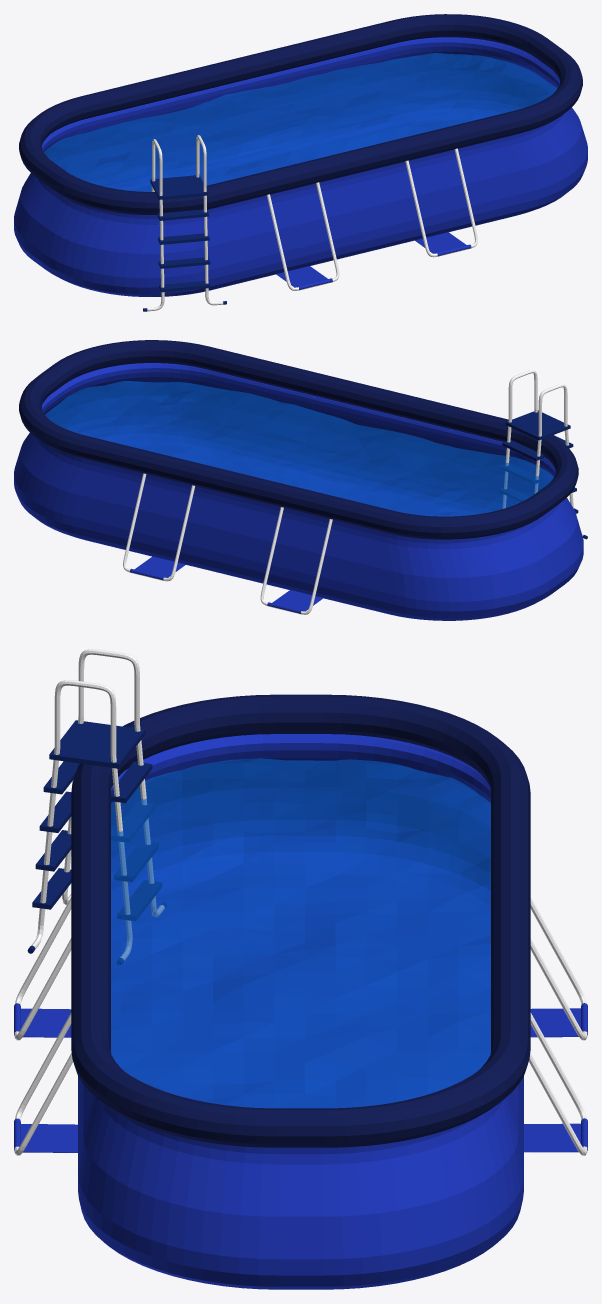
Rendered from rectangle-swimming-pool.obj.
The picture shows the model from 3 angles, top to bottom: view 1: azimuth 30°, elevation 25°; view 2: azimuth 150°, elevation 25°; view 3: azimuth 270°, elevation 25°; orthographic projection. The views are drawn at different scales.
Visible parts, largest first — view 1: Circle, water_Plane.001, Torus.002, BezierCurve.004_Mesh.004, Cylinder, BezierCurve.001_Mesh.001, BezierCurve_Mesh; view 2: Circle, water_Plane.001, Torus.002, BezierCurve.004_Mesh.004, Cylinder, BezierCurve.002_Mesh.002, BezierCurve.003_Mesh.003; view 3: Circle, water_Plane.001, Torus.002, BezierCurve.004_Mesh.004, Cylinder, BezierCurve_Mesh, BezierCurve.002_Mesh.002, BezierCurve.003_Mesh.003, BezierCurve.001_Mesh.001.
Part boxes in pixels (x1,y1,x2,y2): Circle: [14, 37, 587, 296]; water_Plane.001: [44, 53, 556, 222]; Torus.002: [19, 14, 582, 214]; BezierCurve.004_Mesh.004: [143, 135, 226, 311]; Cylinder: [276, 232, 471, 289]; BezierCurve.001_Mesh.001: [266, 182, 339, 290]; BezierCurve_Mesh: [405, 148, 477, 257]; Circle: [14, 363, 583, 620]; water_Plane.001: [45, 381, 553, 516]; Torus.002: [19, 340, 578, 539]; BezierCurve.004_Mesh.004: [499, 370, 587, 539]; Cylinder: [130, 556, 322, 613]; BezierCurve.002_Mesh.002: [123, 473, 195, 581]; BezierCurve.003_Mesh.003: [260, 507, 332, 614]; Circle: [78, 734, 523, 1289]; water_Plane.001: [111, 758, 490, 1108]; Torus.002: [71, 694, 530, 1147]; BezierCurve.004_Mesh.004: [27, 649, 166, 964]; Cylinder: [14, 1003, 587, 1152]; BezierCurve_Mesh: [14, 1012, 72, 1155]; BezierCurve.002_Mesh.002: [529, 1012, 587, 1155]; BezierCurve.003_Mesh.003: [530, 897, 587, 1040]; BezierCurve.001_Mesh.001: [14, 897, 71, 1040].
Size of the model in its own units: 500 by 140 by 275.
